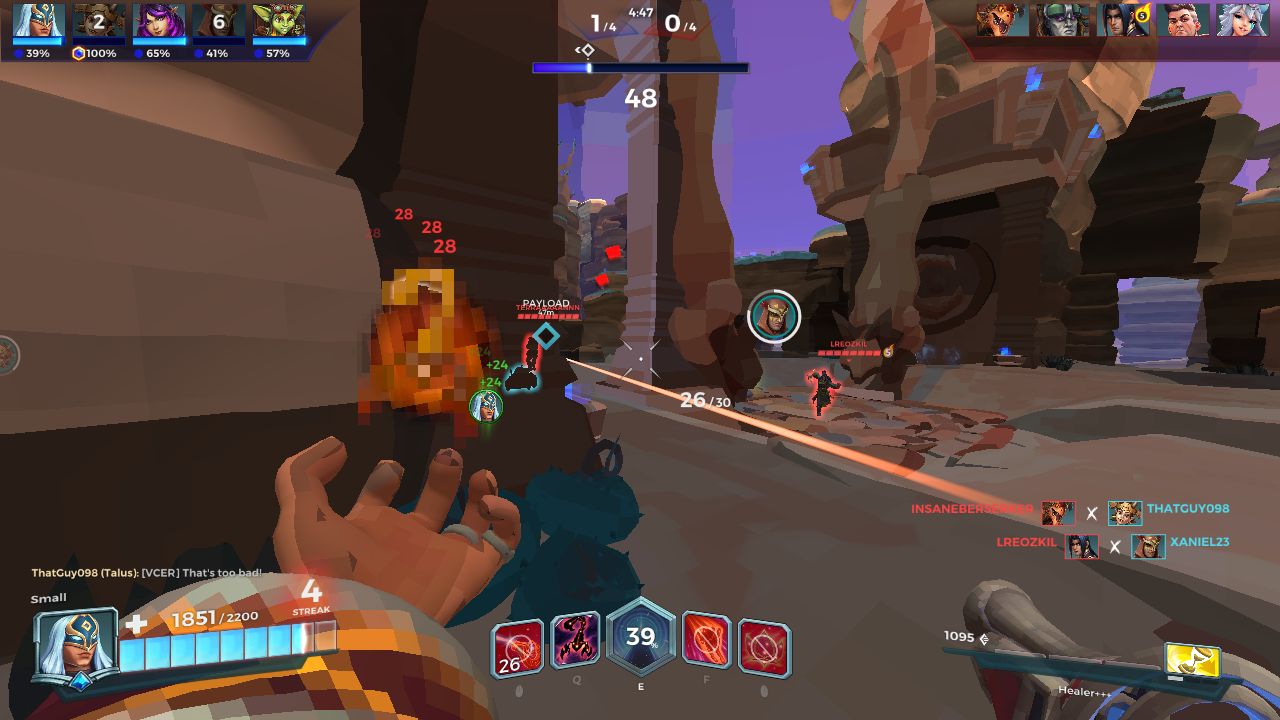model: (808, 370, 839, 415), (522, 333, 543, 373)
